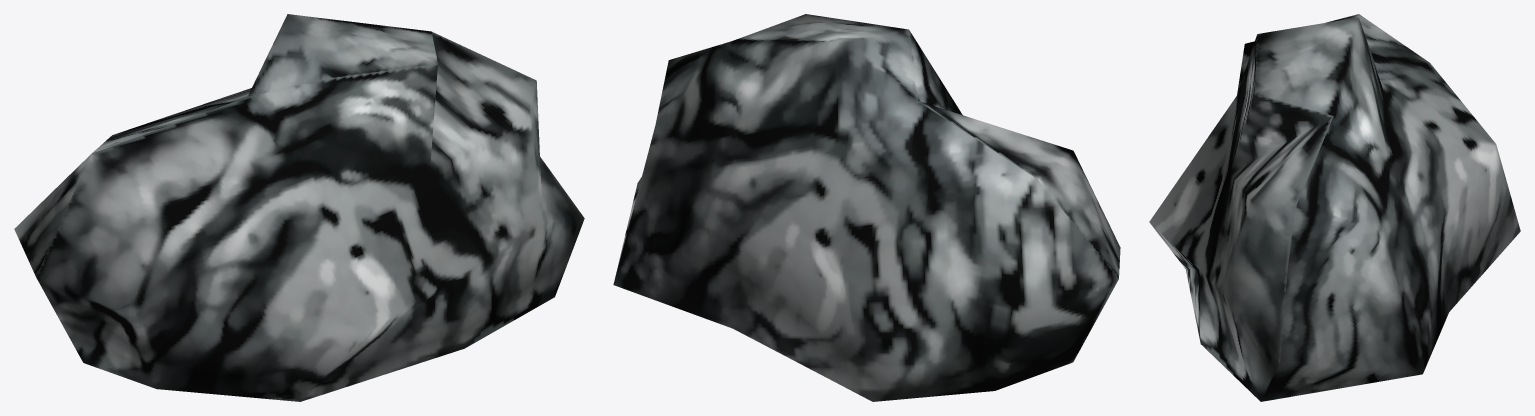
File: PRP_BouldersD.fbx
3 views of the same model, side by side, from view 1: azimuth 30°, elevation 25°; view 2: azimuth 150°, elevation 25°; view 3: azimuth 270°, elevation 25° (orthographic). The views are drawn at different scales.
Parts seen in each view (by area): view 1: PRP_BouldersD; view 2: PRP_BouldersD; view 3: PRP_BouldersD.
Part boxes in pixels (<box>): PRP_BouldersD: <box>14,14,584,401</box>; PRP_BouldersD: <box>613,14,1120,401</box>; PRP_BouldersD: <box>1149,14,1520,401</box>.
Size of the model in its own units: 252 by 142 by 163.
Materials: 1 (1 with a texture image).
